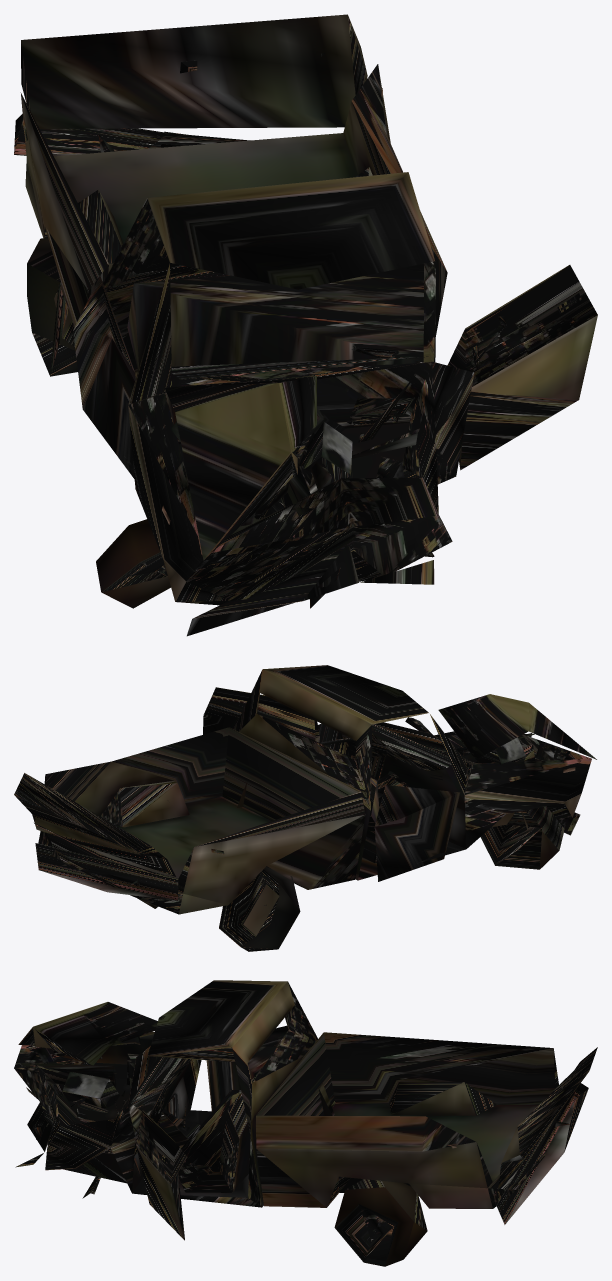
The model's file is crashed-truck.lod1.glb.
3 views of the same model, one above another, from view 1: azimuth 30°, elevation 25°; view 2: azimuth 150°, elevation 25°; view 3: azimuth 270°, elevation 25° (orthographic). The views are drawn at different scales.
Parts seen in each view (by area): view 1: Object_4; view 2: Object_4; view 3: Object_4.
Part boxes in pixels (x1,y1,x2,y2): Object_4: [14, 14, 597, 636]; Object_4: [14, 665, 596, 951]; Object_4: [14, 980, 597, 1266].
Size of the model in its own units: 4.55 by 2.2 by 6.4.
Materials: 1 (1 with a texture image).
